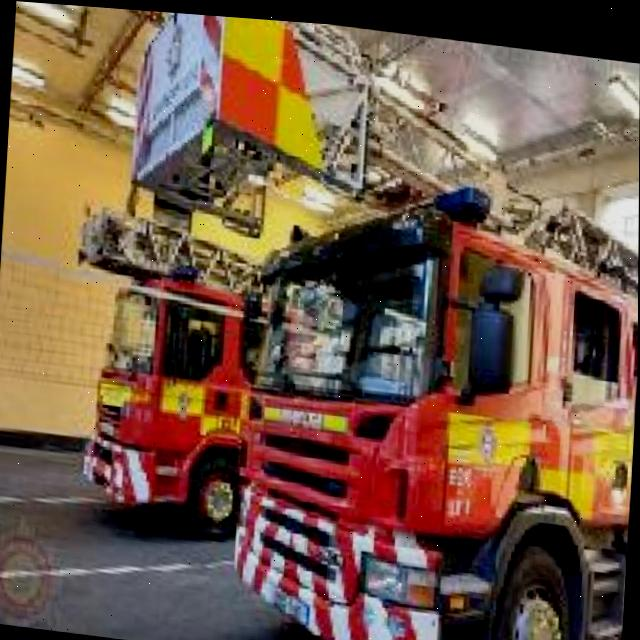emergency: (222, 153, 639, 640), (78, 258, 477, 561)
